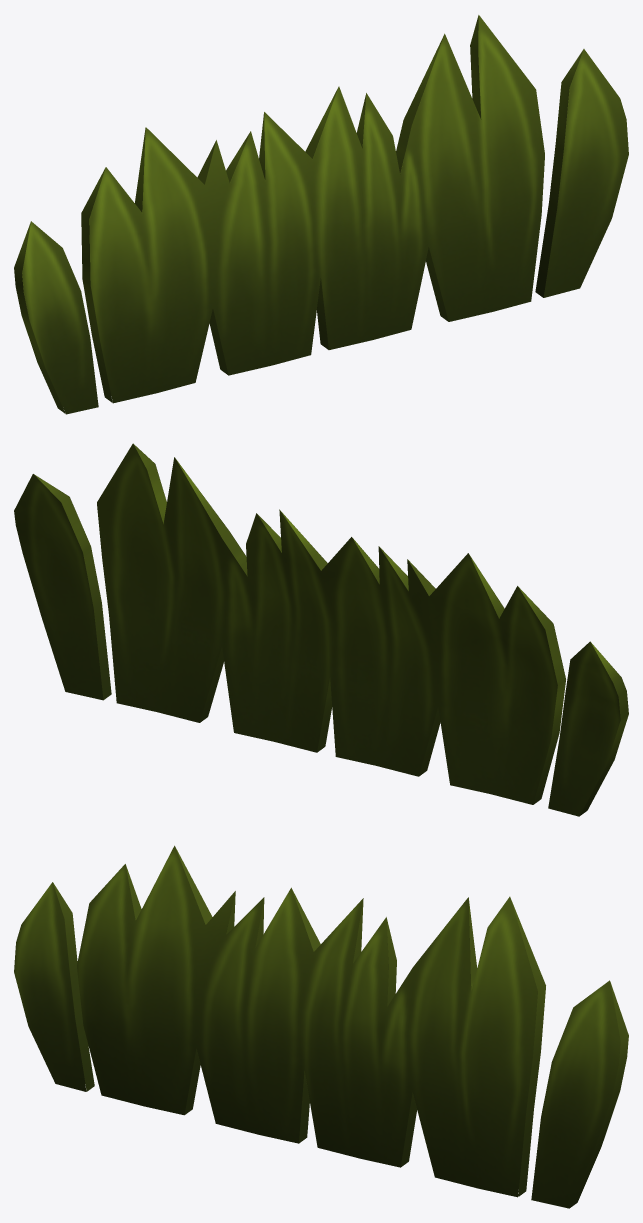
The model's file is s01_grass_01.FBX.
The picture shows the model from 3 angles, top to bottom: view 1: azimuth 30°, elevation 25°; view 2: azimuth 150°, elevation 25°; view 3: azimuth 330°, elevation 25°; orthographic projection.
Visible parts, largest first — view 1: s01_grass_01; view 2: s01_grass_01; view 3: s01_grass_01.
Part boxes in pixels (x1,y1,x2,y2): s01_grass_01: [14, 15, 628, 414]; s01_grass_01: [14, 443, 628, 816]; s01_grass_01: [14, 845, 628, 1208].
Size of the model in its own units: 3.01 by 1.33 by 0.2405.
